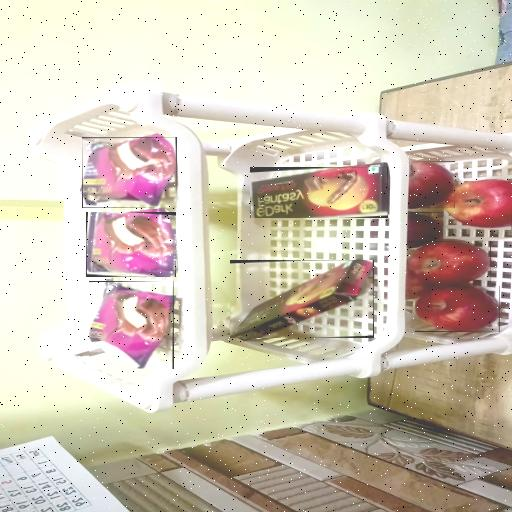Apple: (415, 286, 500, 332), (408, 241, 491, 287), (444, 182, 512, 232), (409, 161, 455, 208), (408, 212, 442, 247), (405, 270, 431, 300)
Choco Fills: (230, 260, 374, 338), (250, 167, 388, 218)
Choco Pie: (89, 281, 174, 369), (82, 137, 177, 208), (86, 212, 176, 277)
